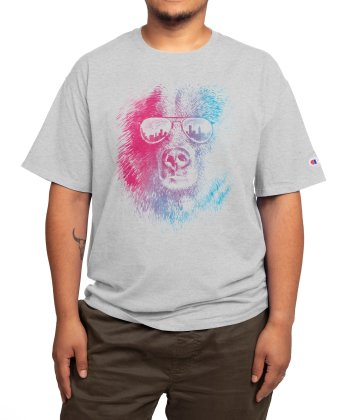design: (111, 79, 236, 233)
